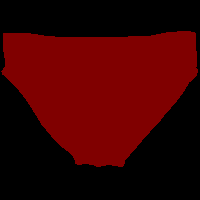mutande: (1, 30, 198, 167)
